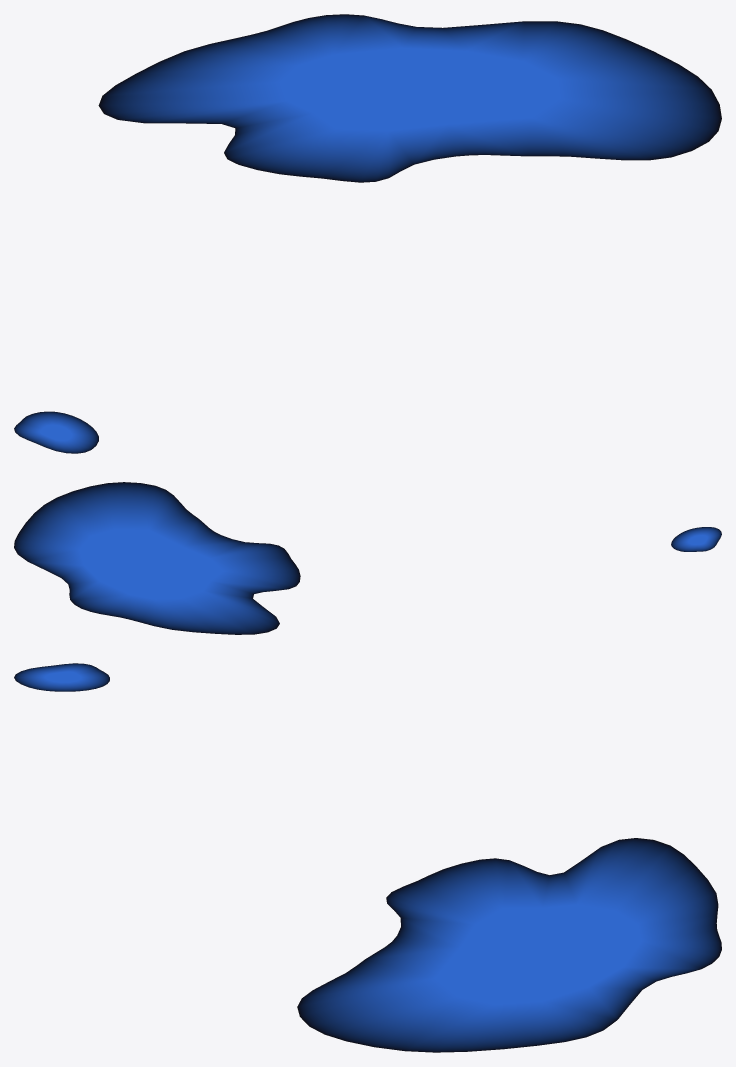
File: water.FBX
3 views of the same model, one above another, from view 1: azimuth 30°, elevation 25°; view 2: azimuth 150°, elevation 25°; view 3: azimuth 270°, elevation 25° (orthographic). The views are drawn at different scales.
Parts seen in each view (by area): view 1: waiter002, waiter003; view 2: waiter002, waiter003; view 3: waiter002, waiter003.
Boxes of the visible parts, box(x1,y1,x2,y2) form: waiter002: box(98, 14, 721, 182); waiter003: box(14, 411, 98, 453); waiter002: box(14, 482, 300, 634); waiter003: box(671, 527, 721, 551); waiter002: box(297, 838, 721, 1052); waiter003: box(14, 663, 109, 691).
Size of what is drawn, in the model's own units: 1402 by 2.83e-05 by 1078.
